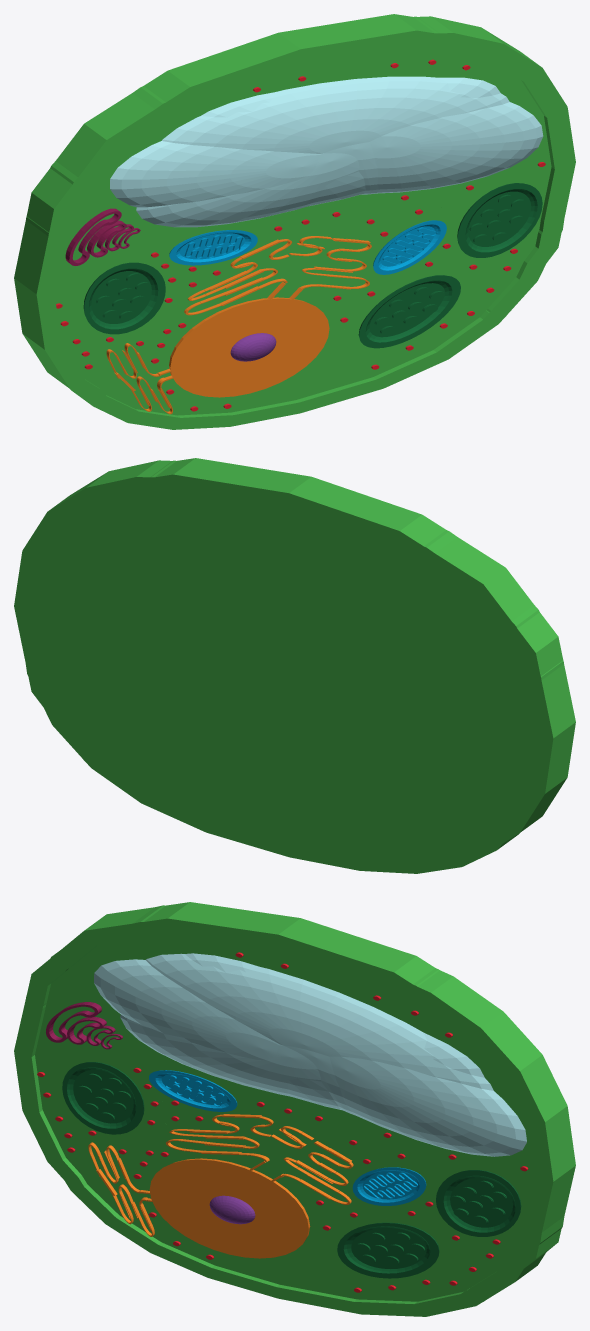
Rendered from Cell.obj.
The picture shows the model from 3 angles, top to bottom: view 1: azimuth 30°, elevation 25°; view 2: azimuth 150°, elevation 25°; view 3: azimuth 330°, elevation 25°; orthographic projection.
Visible parts, largest first — view 1: group_0_4634441, group_0_11593967, group_0_16089887, group_0_1206582, group_0_40919, group_0_9444435, group_0_15277357, group_0_8273816; view 2: group_0_4634441; view 3: group_0_4634441, group_0_11593967, group_0_16089887, group_0_1206582, group_0_40919, group_0_15277357, group_0_9444435, group_0_8273816.
Part boxes in pixels (left/top/right/bottom): group_0_4634441: left=14, top=14, right=575, bottom=429; group_0_11593967: left=110, top=76, right=543, bottom=227; group_0_16089887: left=106, top=236, right=371, bottom=414; group_0_1206582: left=83, top=183, right=542, bottom=348; group_0_40919: left=169, top=220, right=446, bottom=274; group_0_9444435: left=65, top=208, right=140, bottom=265; group_0_15277357: left=56, top=59, right=545, bottom=411; group_0_8273816: left=230, top=333, right=276, bottom=361; group_0_4634441: left=14, top=458, right=575, bottom=873; group_0_4634441: left=14, top=902, right=575, bottom=1316; group_0_11593967: left=94, top=953, right=526, bottom=1156; group_0_16089887: left=88, top=1114, right=353, bottom=1258; group_0_1206582: left=62, top=1062, right=521, bottom=1278; group_0_40919: left=149, top=1070, right=426, bottom=1205; group_0_15277357: left=37, top=952, right=528, bottom=1292; group_0_9444435: left=46, top=1002, right=122, bottom=1049; group_0_8273816: left=209, top=1195, right=255, bottom=1224.
Bounding box in the file's own units: 138 × 89 × 14.
